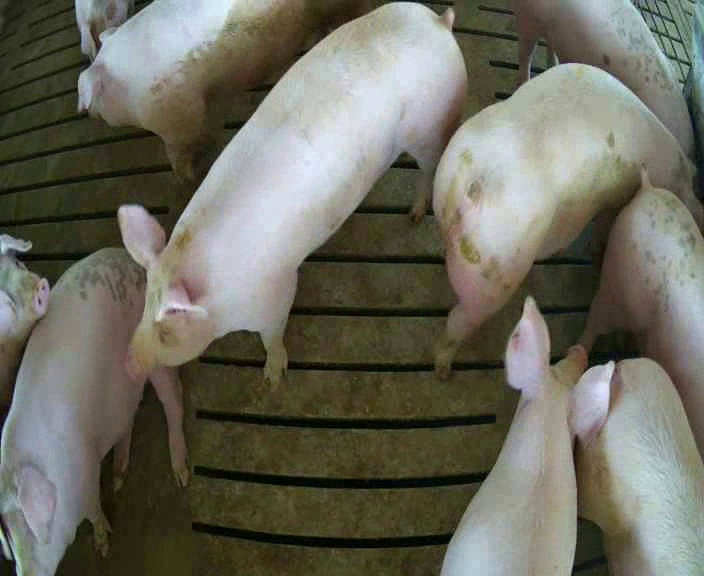pig: (121, 4, 465, 381), (433, 64, 703, 374), (443, 296, 614, 574), (580, 169, 703, 456), (576, 358, 703, 574), (516, 2, 692, 156)
